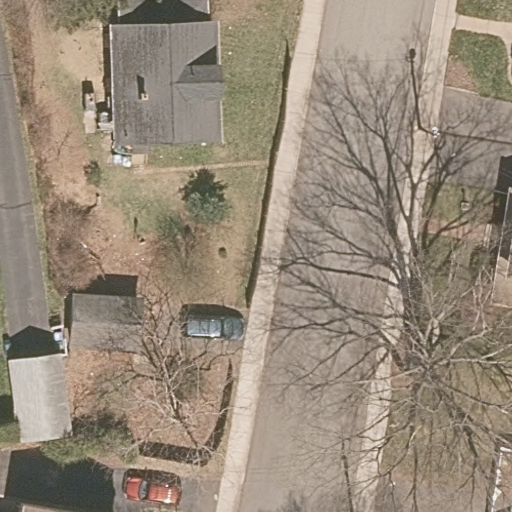DT: (414, 123, 442, 140)
